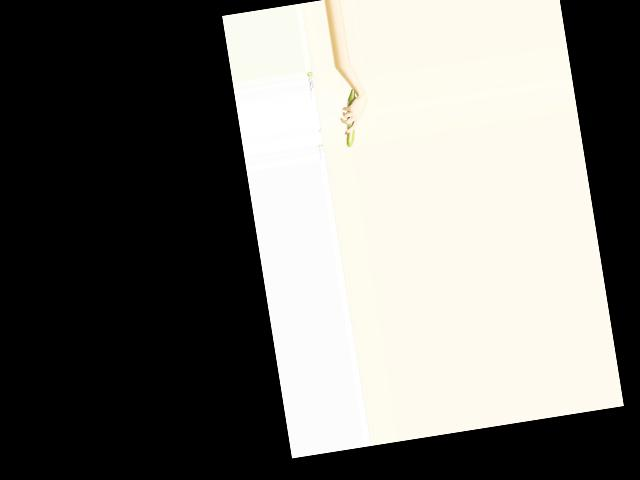cucumber: (337, 88, 362, 147)
